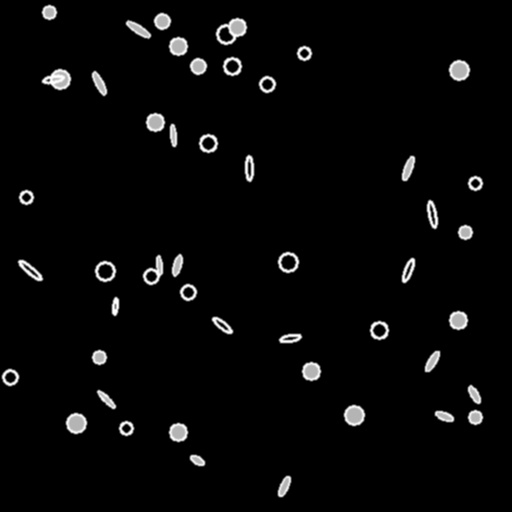pseudomonas: (17, 258, 43, 282), (125, 19, 151, 39), (90, 71, 108, 95), (96, 389, 116, 409), (401, 257, 415, 283), (401, 155, 415, 181), (212, 316, 232, 334), (424, 350, 440, 372), (426, 200, 438, 228), (277, 475, 291, 497), (434, 409, 454, 423), (171, 254, 183, 276), (467, 385, 481, 403), (189, 453, 205, 467), (245, 155, 253, 181), (43, 74, 63, 84), (280, 333, 300, 343), (155, 256, 163, 274), (111, 298, 119, 314), (170, 125, 176, 145)
synechocystis: (450, 61, 468, 79), (96, 262, 114, 280), (279, 253, 297, 271), (217, 25, 235, 43), (345, 406, 363, 424), (51, 70, 69, 88), (67, 414, 85, 432), (170, 38, 186, 54), (303, 363, 319, 379), (371, 322, 387, 338), (147, 114, 163, 130), (450, 312, 466, 328), (229, 19, 245, 35), (200, 135, 216, 151), (224, 58, 240, 74), (170, 424, 186, 440), (181, 285, 195, 299), (260, 77, 274, 91), (155, 14, 169, 28), (3, 370, 17, 384), (191, 59, 205, 73), (144, 269, 158, 283), (298, 47, 310, 59), (120, 422, 132, 434), (93, 351, 105, 363), (469, 411, 481, 423), (459, 226, 471, 238), (20, 191, 32, 203), (469, 177, 481, 189), (43, 6, 55, 18)
